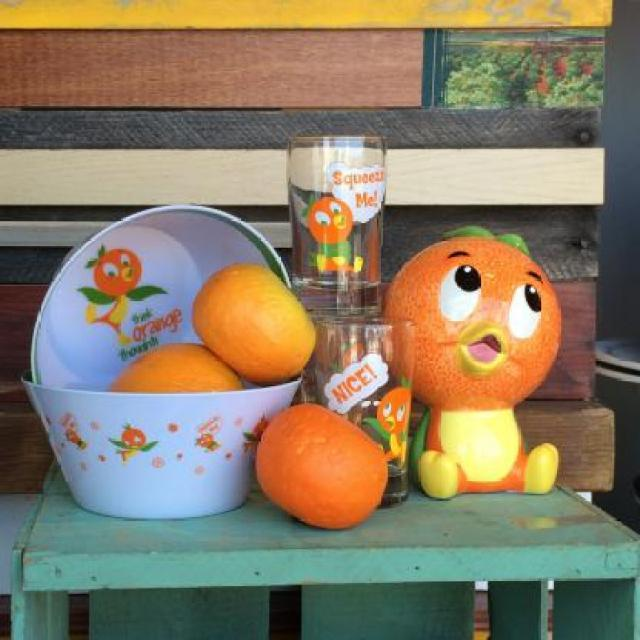Orange: (256, 404, 394, 532), (194, 270, 328, 388), (107, 347, 241, 395)
